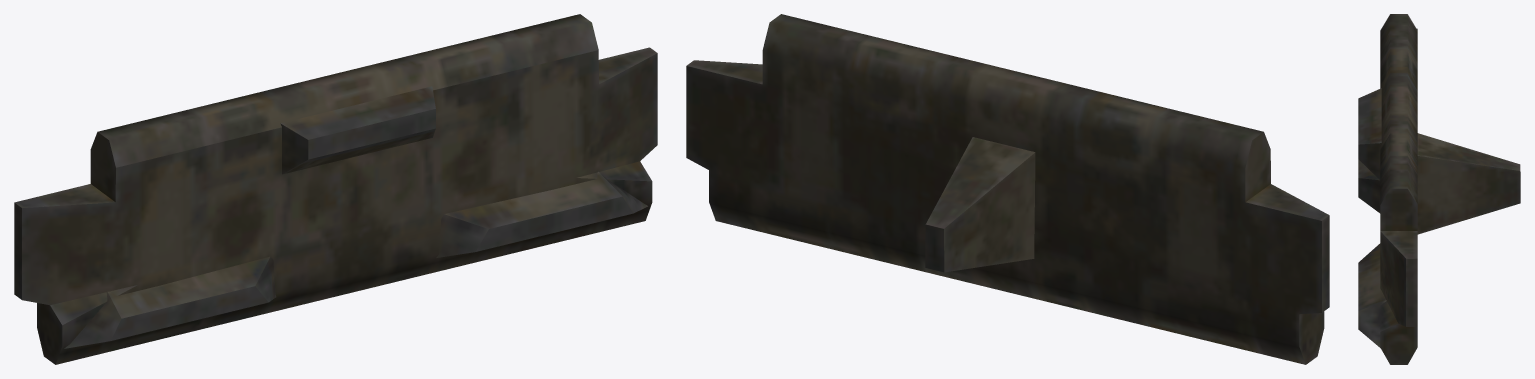
The picture shows the model from 3 angles, left to right: view 1: azimuth 30°, elevation 25°; view 2: azimuth 150°, elevation 25°; view 3: azimuth 270°, elevation 25°; orthographic projection. The views are drawn at different scales.
Parts seen in each view (by area): view 1: set_0_group_0; view 2: set_0_group_0; view 3: set_0_group_0.
Part boxes in pixels (bbox=[...]): set_0_group_0: bbox=[14, 14, 657, 364]; set_0_group_0: bbox=[686, 14, 1329, 364]; set_0_group_0: bbox=[1358, 14, 1520, 364].
Bounding box in the file's own units: 0.65 × 0.2067 × 0.1937.
Materials: 1 (1 with a texture image).
